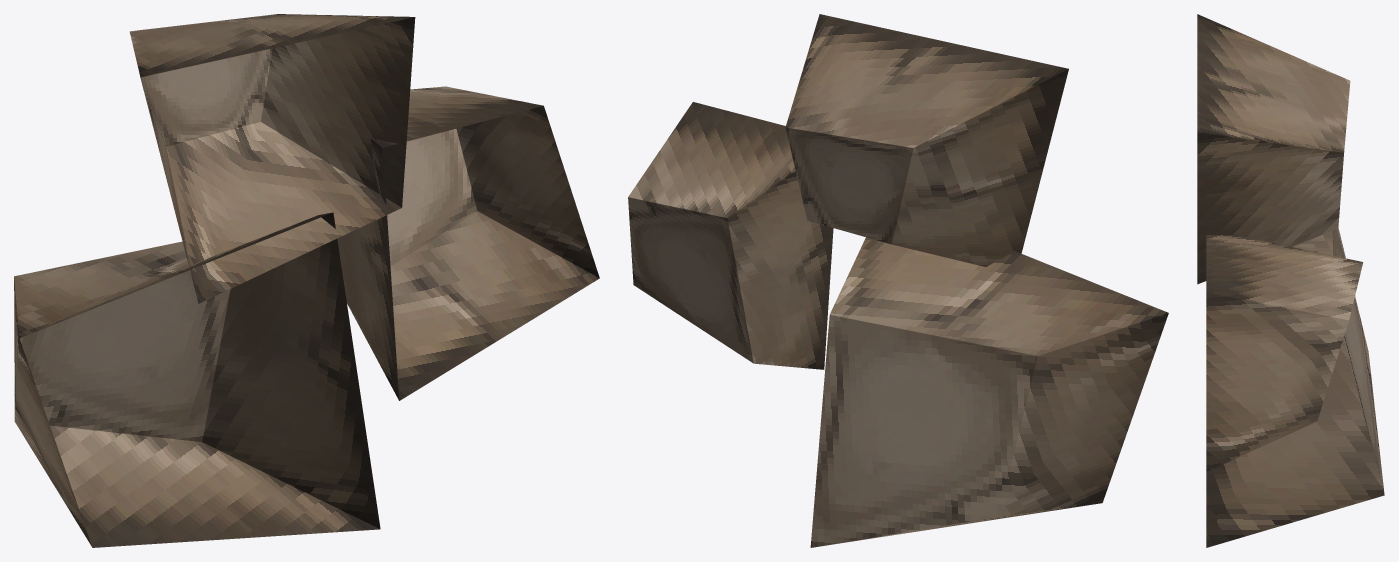
The model's file is Rock 04.FBX.
The picture shows the model from 3 angles, left to right: view 1: azimuth 30°, elevation 25°; view 2: azimuth 150°, elevation 25°; view 3: azimuth 270°, elevation 25°; orthographic projection. The views are drawn at different scales.
Parts seen in each view (by area): view 1: env_rock04; view 2: env_rock04; view 3: env_rock04.
Part boxes in pixels (x1,y1,x2,y2): env_rock04: [14, 14, 599, 547]; env_rock04: [628, 14, 1168, 547]; env_rock04: [1197, 14, 1384, 547].
Bounding box in the file's own units: 49.53 × 42.07 × 16.47.
